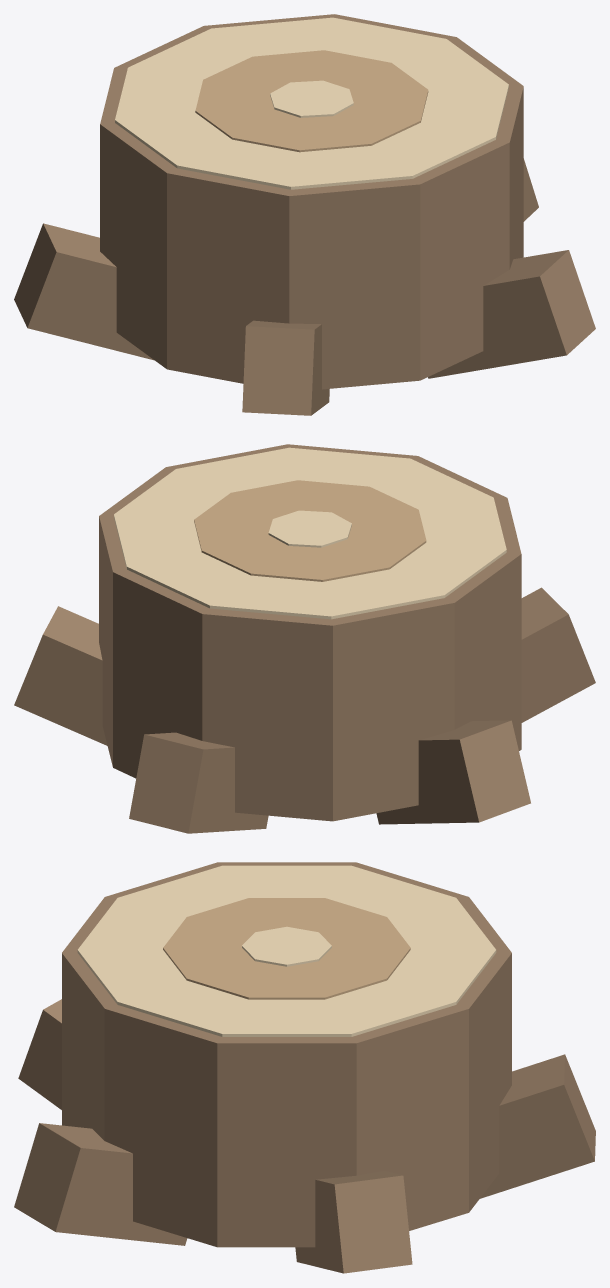
The model's file is Stump_Bark.fbx.
3 renders of one model, top to bottom at view 1: azimuth 30°, elevation 25°; view 2: azimuth 150°, elevation 25°; view 3: azimuth 270°, elevation 25°, orthographic. The views are drawn at different scales.
Visible parts, largest first — view 1: Stump_Bark_Mesh; view 2: Stump_Bark_Mesh; view 3: Stump_Bark_Mesh.
Boxes of the visible parts, box(x1,y1,x2,y2) form: Stump_Bark_Mesh: box(14, 14, 595, 415); Stump_Bark_Mesh: box(14, 444, 595, 833); Stump_Bark_Mesh: box(14, 862, 595, 1273).
Size of the model in its own units: 2.71 by 1.23 by 2.59.
